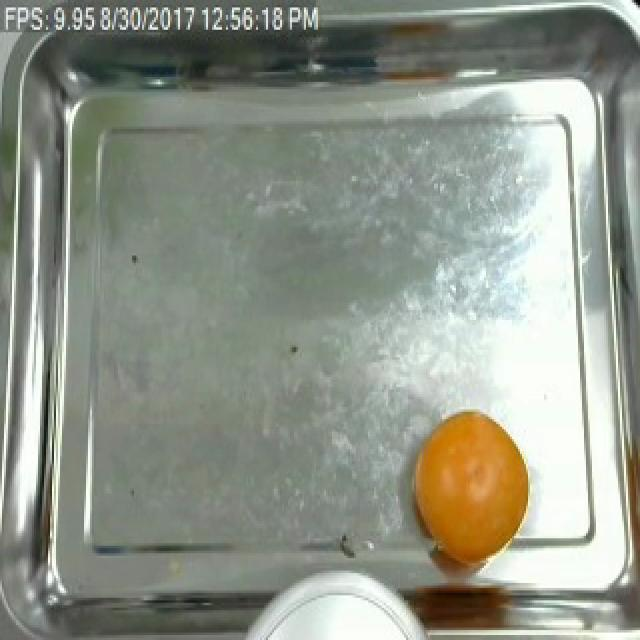Fruit: (408, 404, 536, 566)
